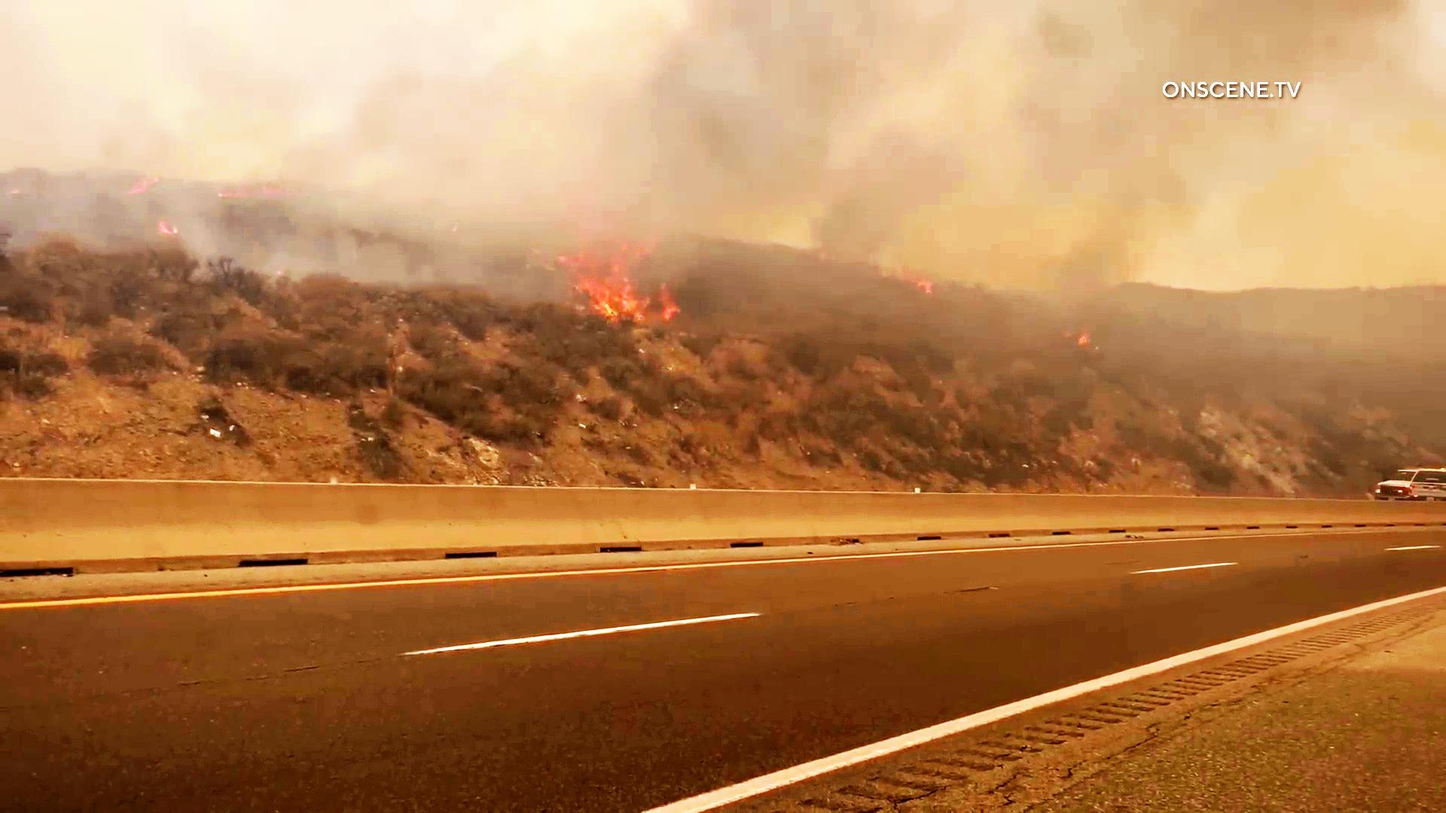fire: (577, 266, 683, 344)
